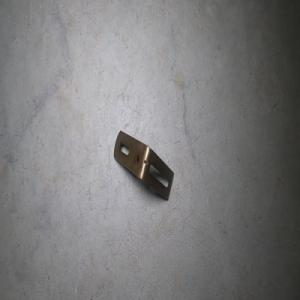MetalPart: (112, 129, 174, 202)
